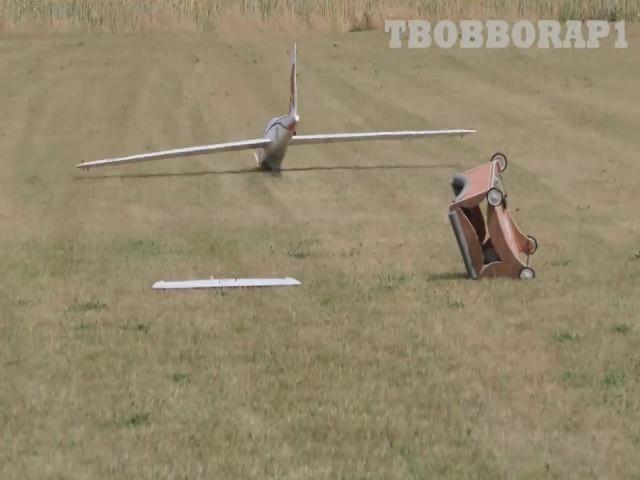Airplane: (76, 43, 477, 170)
